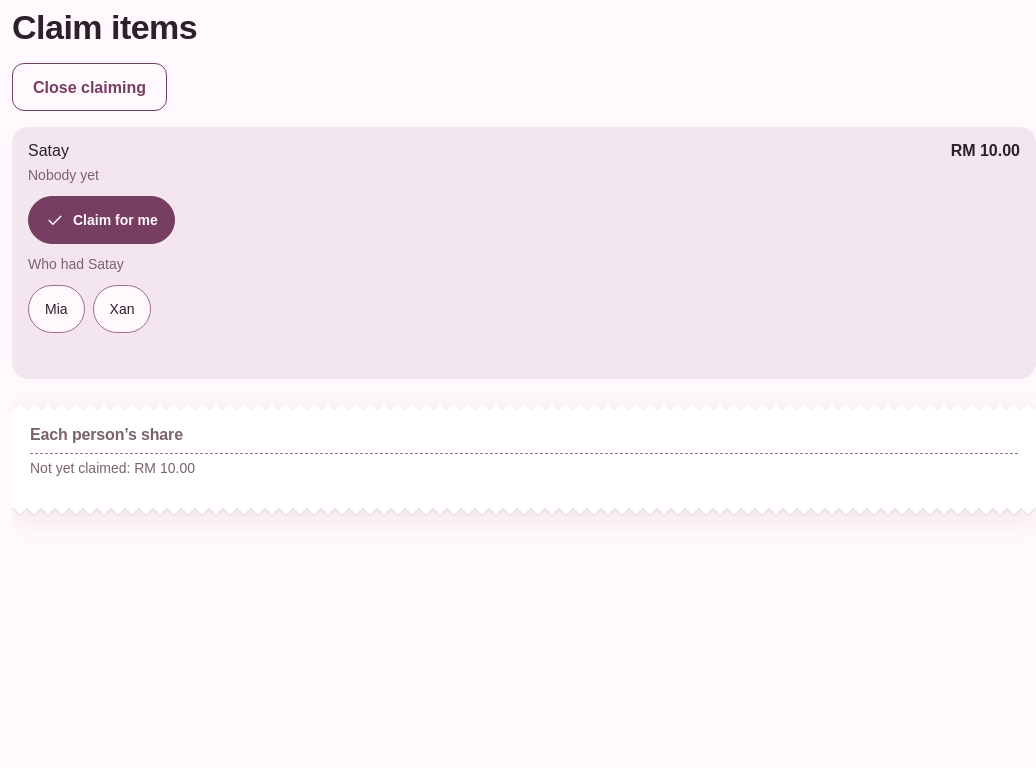
it: ClaimItemsRoute › reverts the chips to the saved state and shows the error when the save fails
Click the button "Xan": (122, 309) [93,285,152,333]
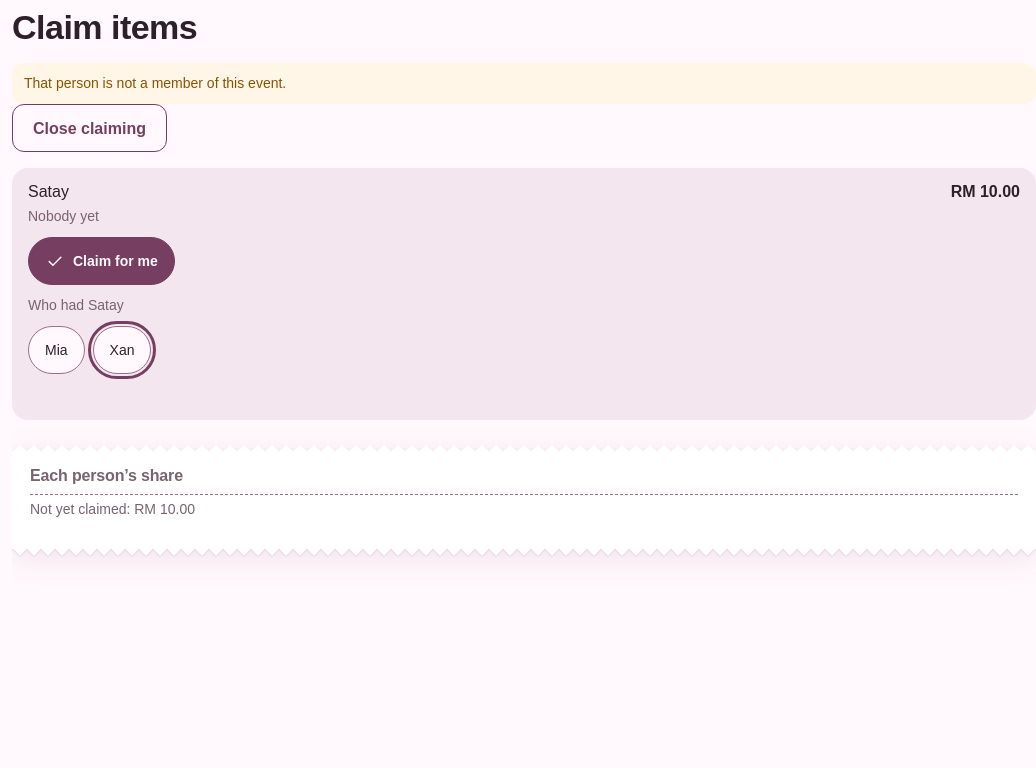
Expected: the message "That person is not a member of this event." is shown, [12,63,1035,104]
